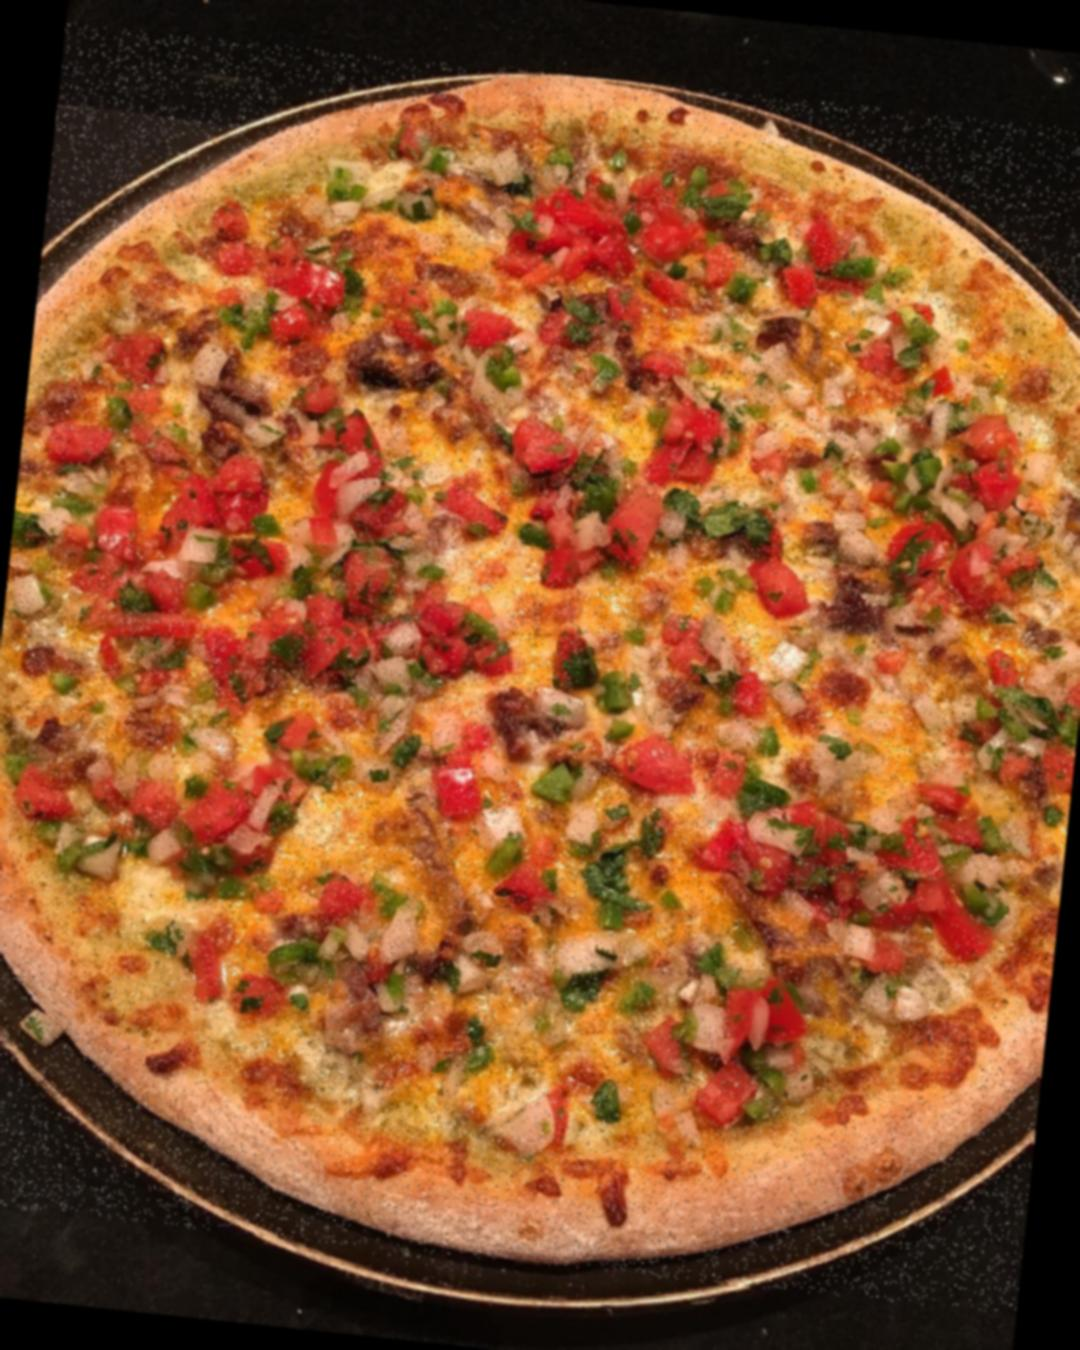Basil: (64, 823, 256, 901), (313, 118, 450, 222), (961, 666, 1068, 778), (184, 523, 281, 631), (573, 836, 665, 948), (253, 918, 359, 997), (572, 635, 650, 741), (855, 431, 954, 514), (656, 487, 779, 551), (680, 158, 760, 226), (461, 332, 529, 395), (529, 750, 586, 808), (479, 827, 525, 882)
Pizza: (0, 22, 1080, 1314)
Tomatoes: (879, 506, 1022, 604), (72, 479, 195, 579), (514, 181, 627, 277), (161, 456, 271, 546), (415, 588, 512, 678), (952, 413, 1030, 518), (442, 289, 540, 360), (727, 978, 807, 1063), (852, 881, 925, 973), (918, 870, 1013, 940), (774, 793, 870, 863), (503, 401, 586, 479), (238, 711, 318, 789), (299, 382, 384, 453), (657, 402, 724, 490), (294, 469, 358, 562), (642, 207, 719, 284), (192, 620, 259, 708), (302, 591, 370, 676), (600, 484, 673, 561), (270, 263, 339, 345), (781, 217, 842, 310), (31, 412, 119, 475), (698, 827, 782, 890), (620, 739, 693, 811), (434, 485, 510, 553), (8, 767, 90, 824), (743, 557, 813, 622), (647, 623, 724, 681), (110, 330, 170, 403), (921, 775, 986, 839), (314, 870, 379, 929), (698, 1063, 758, 1126), (188, 916, 234, 997), (430, 760, 486, 825), (539, 510, 595, 575), (637, 1016, 698, 1074), (208, 209, 261, 276), (193, 776, 246, 838), (883, 825, 947, 872), (258, 596, 316, 644), (125, 784, 162, 819)
